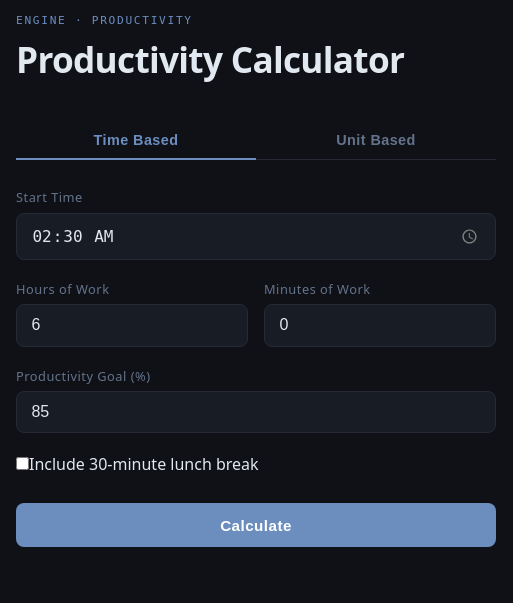
Test case: CalculatorPage › shows fallback error when fetch throws
Click the button "Calculate" at (256, 525), box [16, 503, 496, 548]
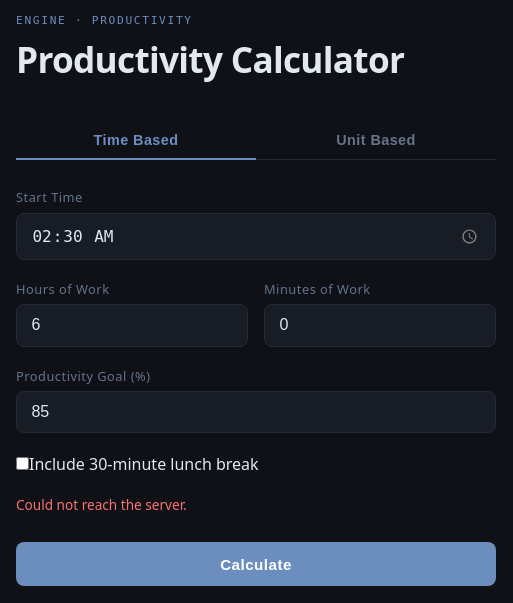
Now the text "Could not reach the server." is shown, box [16, 495, 187, 514]
